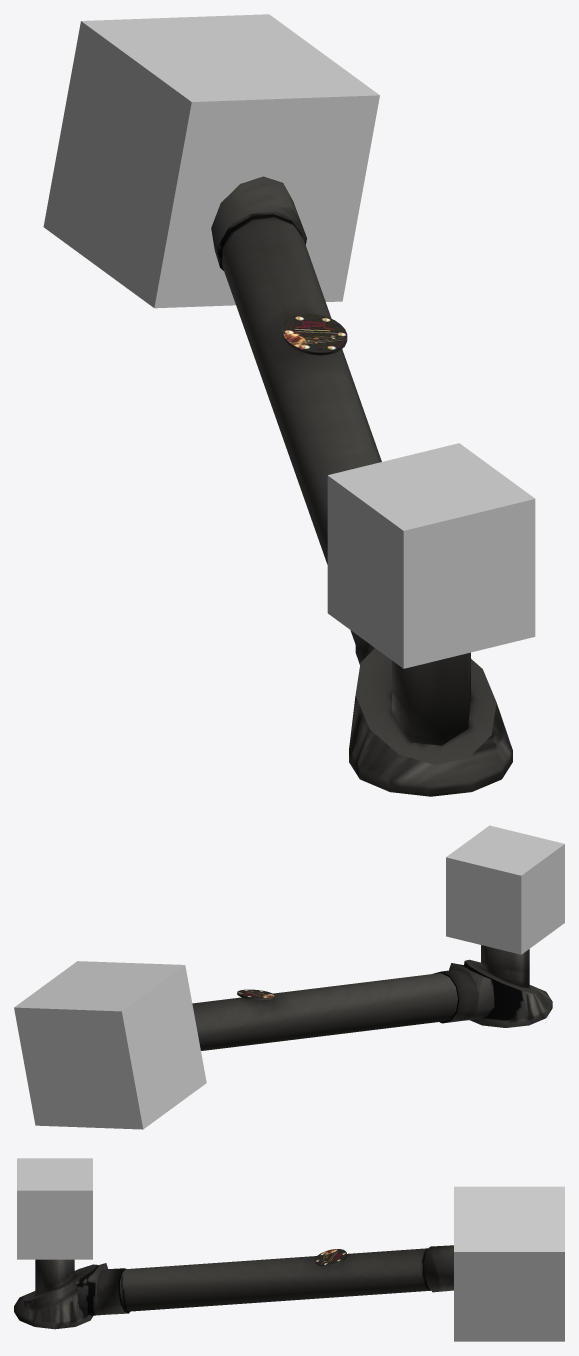
Rendered from suspension_arm_F_R.dae.
3 renders of one model, top to bottom at view 1: azimuth 30°, elevation 25°; view 2: azimuth 150°, elevation 25°; view 3: azimuth 270°, elevation 25°, orthographic. The views are drawn at different scales.
Parts seen in each view (by area): view 1: suspension_arm_F_R_p, suspension_arm_F_R, Cube_02_p; view 2: suspension_arm_F_R_p, suspension_arm_F_R, Cube_02_p; view 3: suspension_arm_F_R, suspension_arm_F_R_p, Cube_02_p.
Boxes of the visible parts, <box> form: suspension_arm_F_R_p: <box>43,14,379,308</box>; suspension_arm_F_R: <box>211,176,512,796</box>; Cube_02_p: <box>327,443,535,668</box>; suspension_arm_F_R_p: <box>14,961,206,1129</box>; suspension_arm_F_R: <box>192,945,552,1050</box>; Cube_02_p: <box>446,825,564,954</box>; suspension_arm_F_R: <box>14,1245,453,1329</box>; suspension_arm_F_R_p: <box>454,1186,564,1341</box>; Cube_02_p: <box>17,1158,92,1259</box>.
Size of the model in its own units: 0.4691 by 1.07 by 0.3514.
4 materials, 3 textured.
